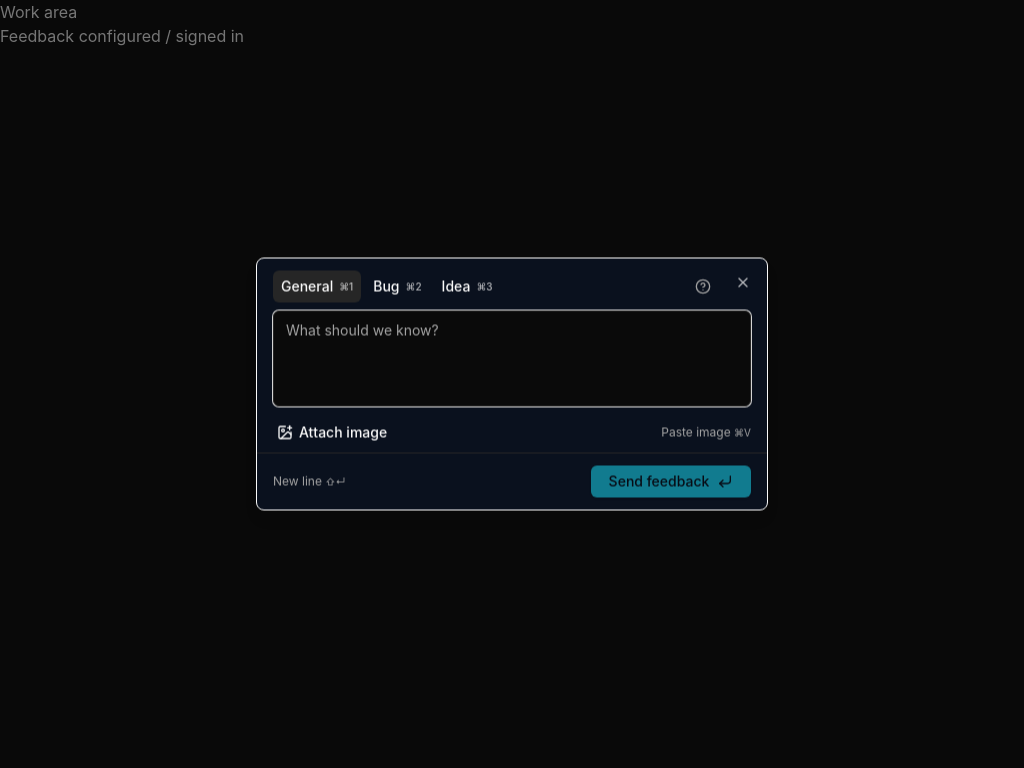
Test: unified feedback composer continuity › a later retry refusal cannot erase uncertainty about an earlier accepted write
Step 1. Type "May already be saved" into the text box named "Feedback" → (512, 358), box [273,310,751,406]
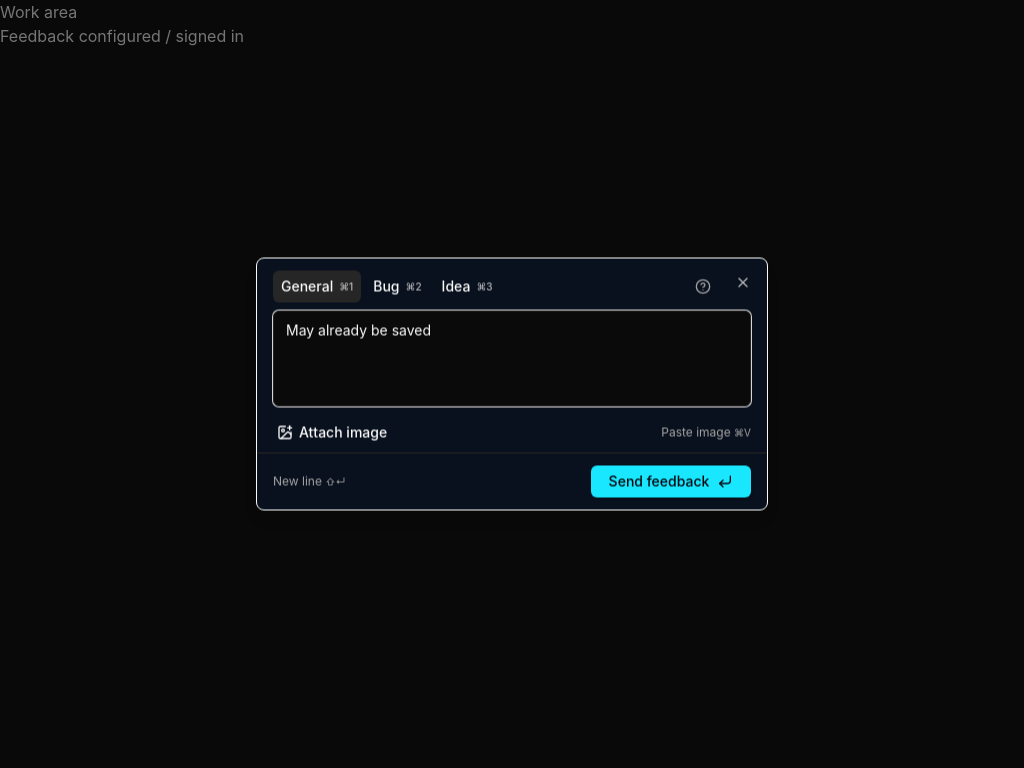
Step 2. Press Enter in the text box named "Feedback", box [273,310,751,406]
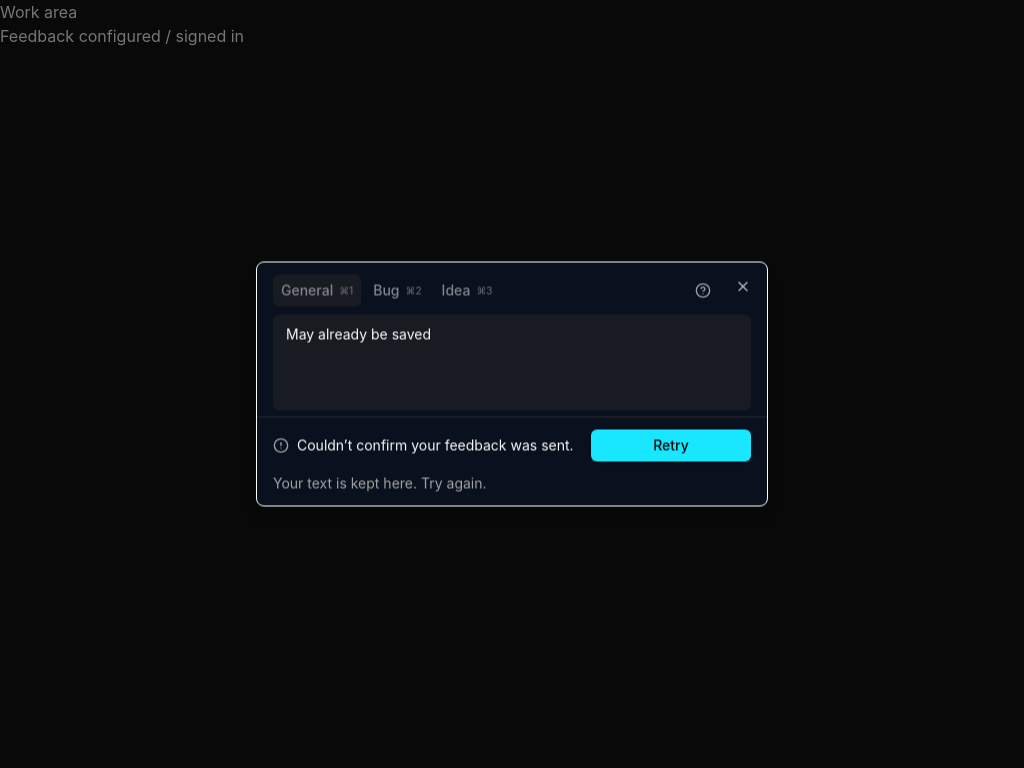
Result: the element that starts with "Couldn’t confirm your feedback was sent." is shown at [257,418,767,506]
Step 3. Click the button "Retry" → (671, 446), box [591,430,751,462]
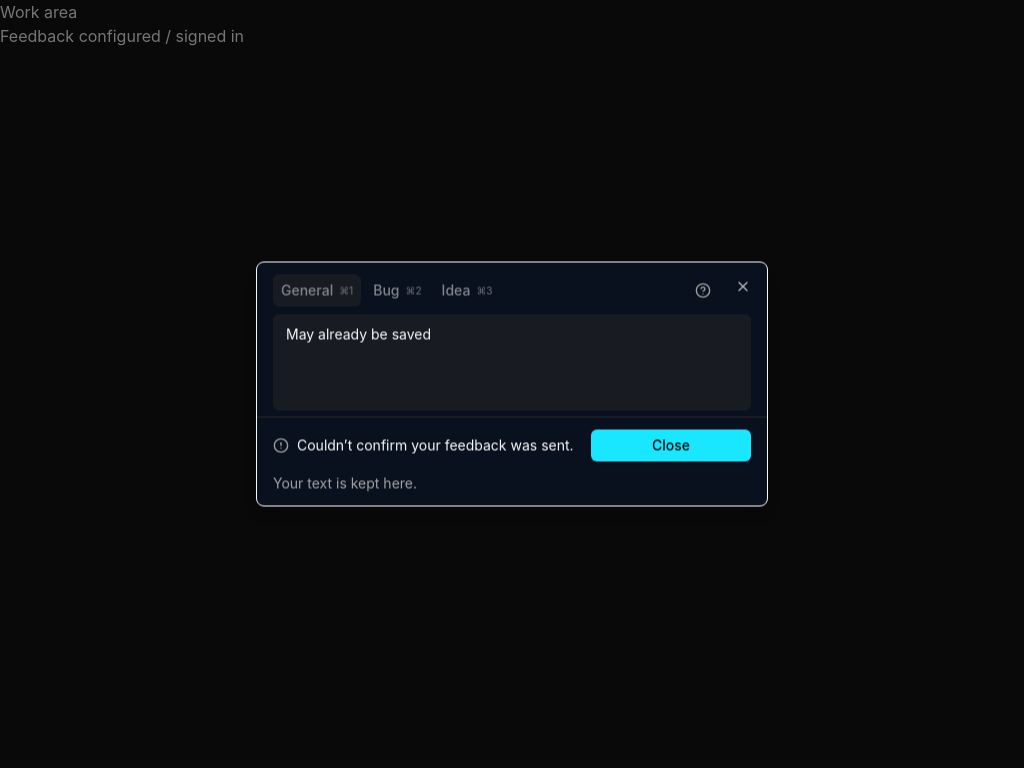
Result: the element that starts with "Couldn’t confirm your feedback was sent." is shown at [257,418,767,506]
Result: the button "Retry" is gone
